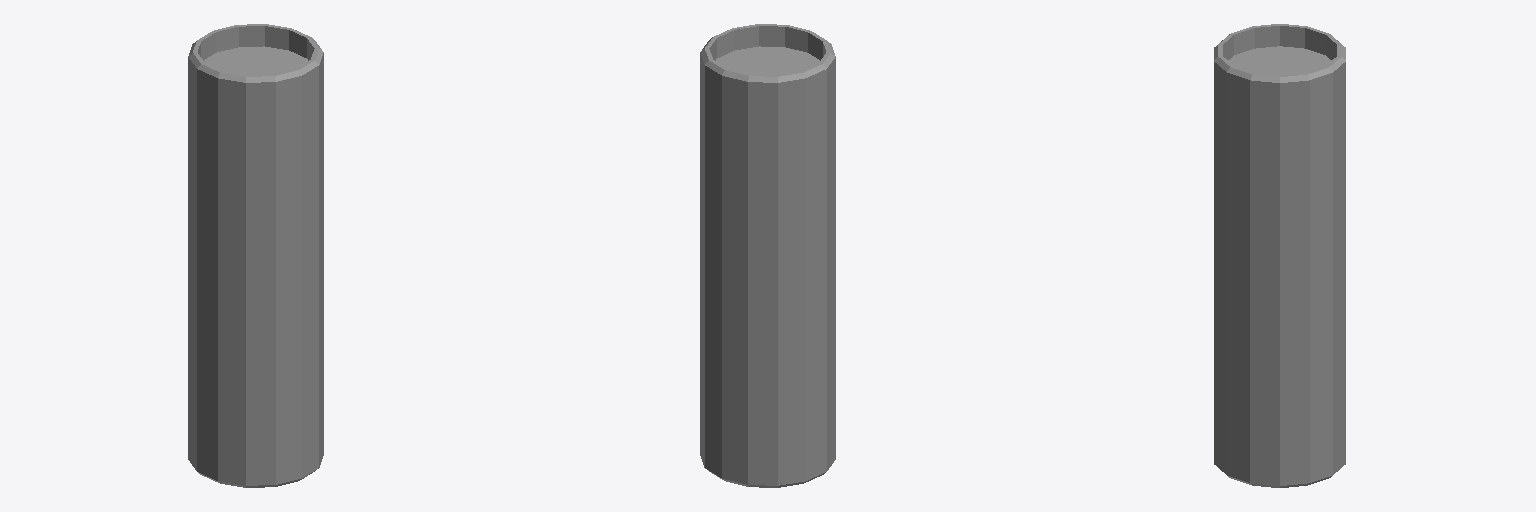
The model's file is plantpot.obj.
3 renders of one model, left to right at view 1: azimuth 30°, elevation 25°; view 2: azimuth 150°, elevation 25°; view 3: azimuth 270°, elevation 25°, orthographic.
Visible parts, largest first — view 1: Cylinder_Untitled; view 2: Cylinder_Untitled; view 3: Cylinder_Untitled.
Boxes of the visible parts, x1=… form: Cylinder_Untitled: x1=188, y1=24, x2=323, y2=487; Cylinder_Untitled: x1=700, y1=24, x2=835, y2=487; Cylinder_Untitled: x1=1214, y1=24, x2=1345, y2=487.
Size of the model in its own units: 0.3 by 1 by 0.2925.